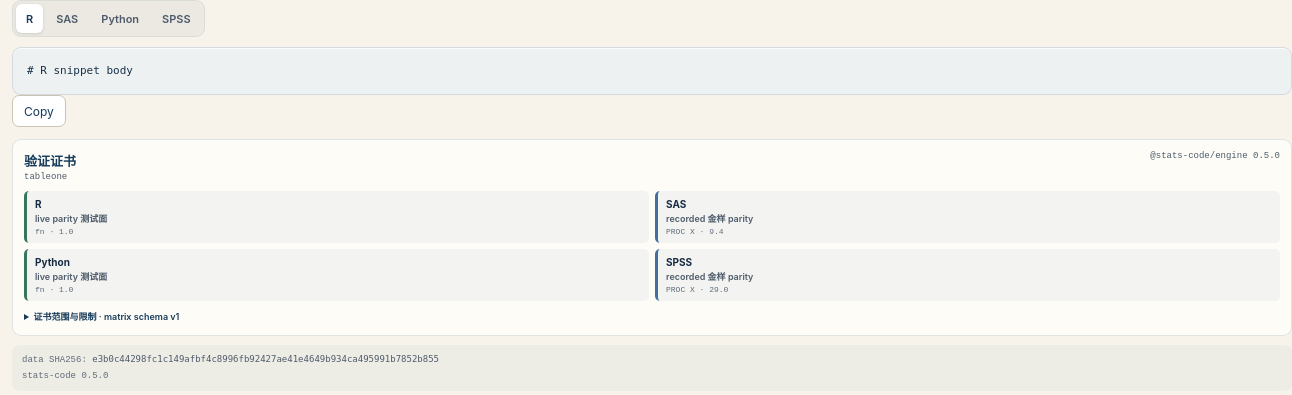
it: EquivalentCodeSidecar �?tab switching › switches the active tab on click
The width and height of the screenshot is (1292, 395).
Expected: the element with test id "sidecar-snippet" reads "# R snippet body", [27,64,133,77]
Click the tab with test id "sidecar-tab-Python". click: [120, 18]
box: [91,4,149,33]
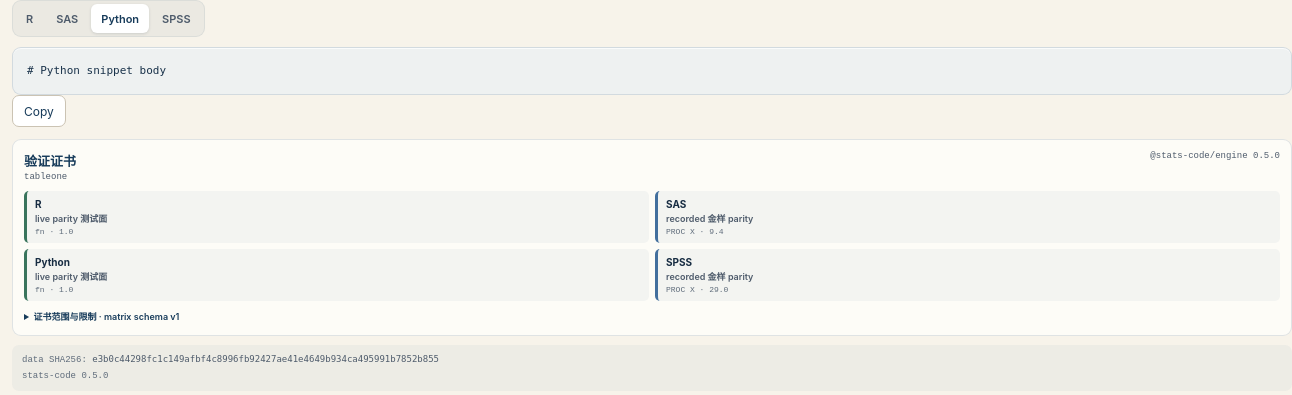
Now the element with test id "sidecar-snippet" reads "# Python snippet body", box [27,64,166,77]
